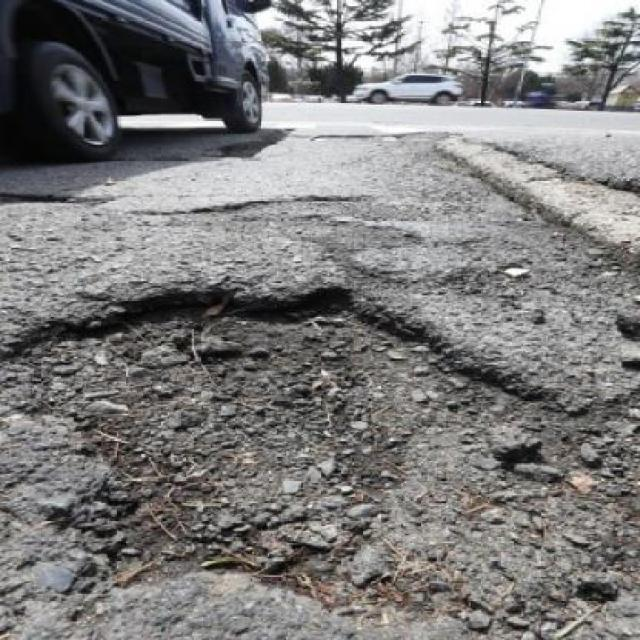Pothole: (1, 283, 638, 623), (162, 182, 410, 286), (0, 185, 114, 212)
